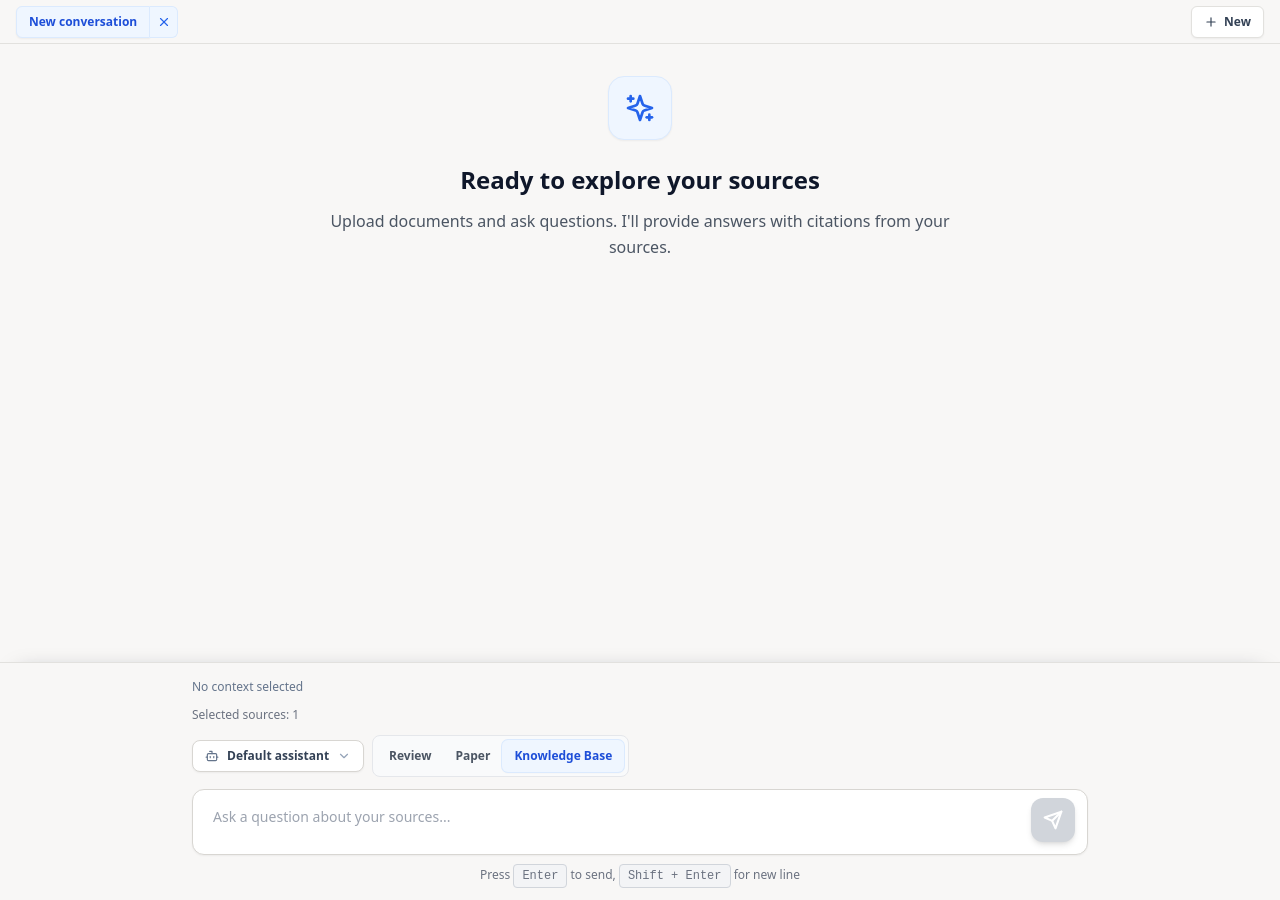
ChatInterface workspace layout › shows a recoverable skill run error without hiding the failure
In the text box with placeholder "Ask a question about your sources...": (640, 818) [193, 790, 1087, 846], type "/paper_planner outline chapter 2"
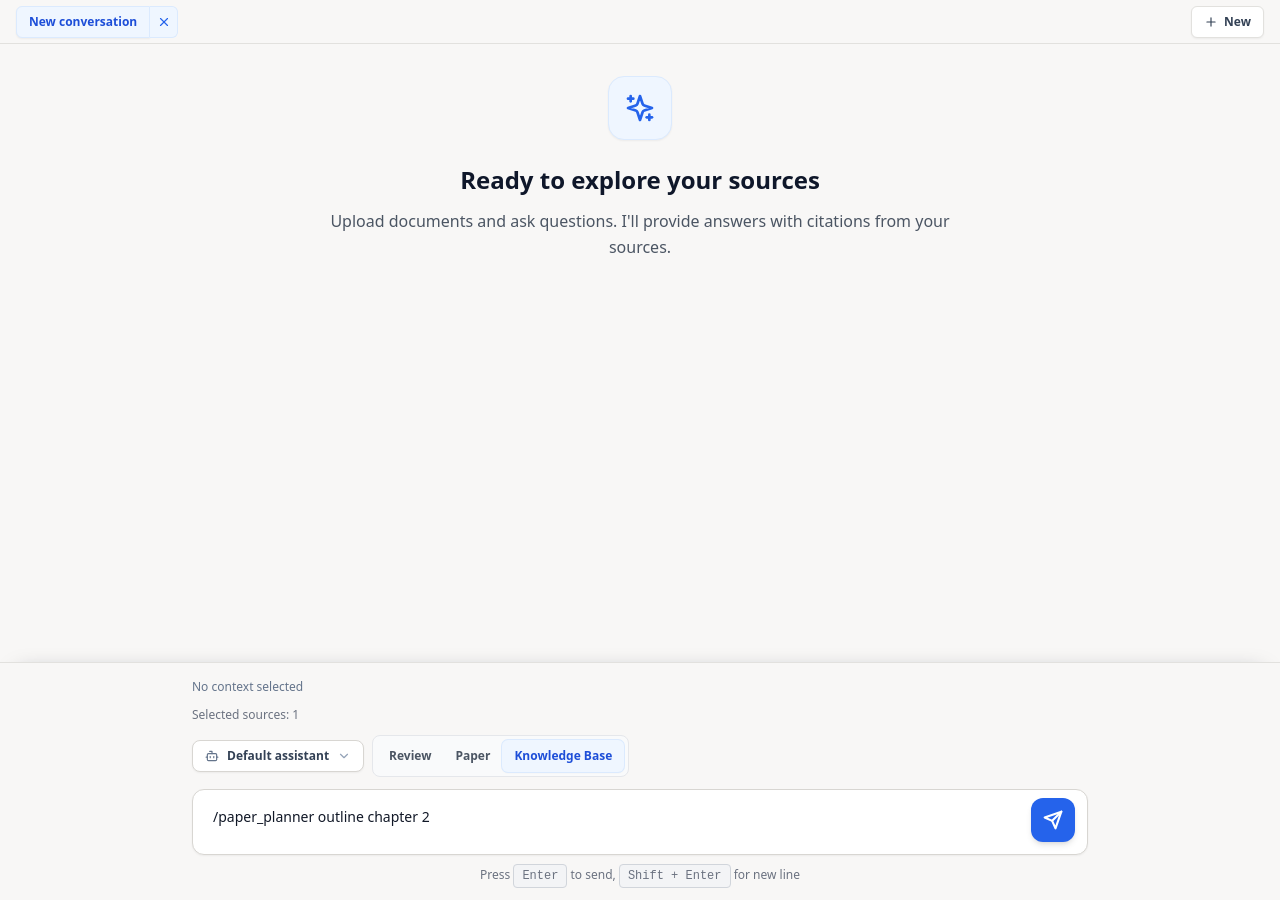
Click the button named "Send message": (1053, 820) [1031, 798, 1075, 842]
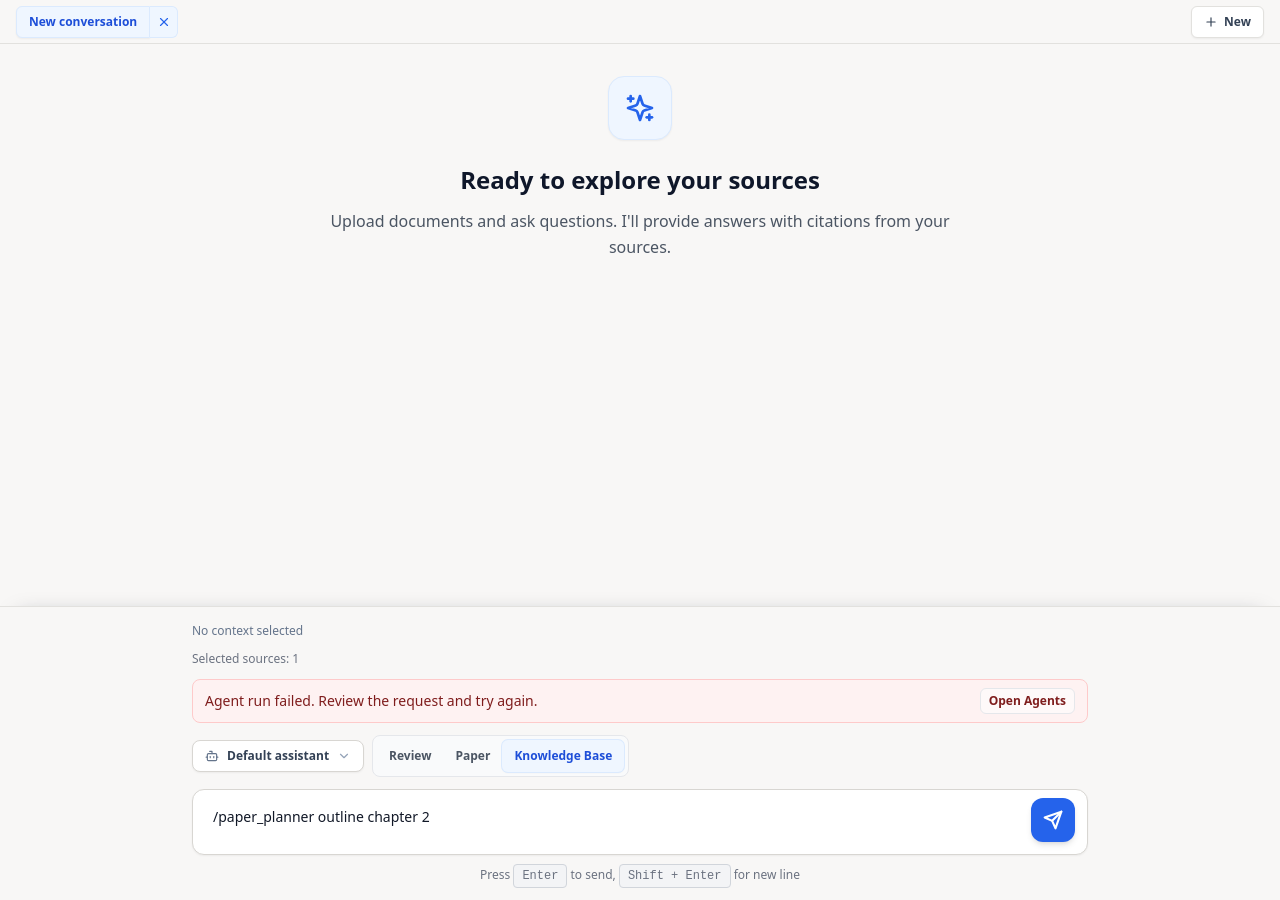
Now the text "Agent run failed. Review the request and try again." is shown, box [205, 691, 538, 711]
Now the button "Open Agents" is shown, box [980, 688, 1075, 714]
